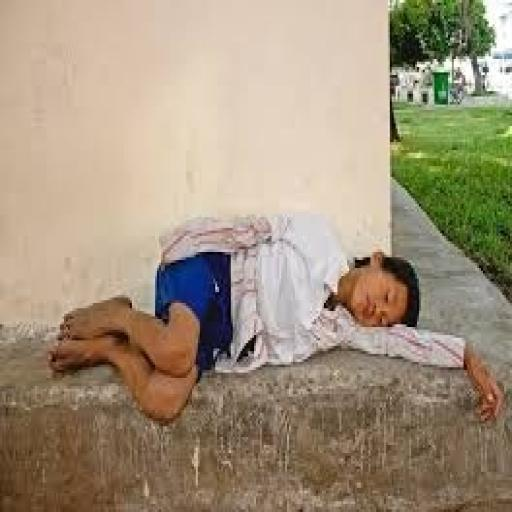sleeping: (45, 206, 506, 429)
